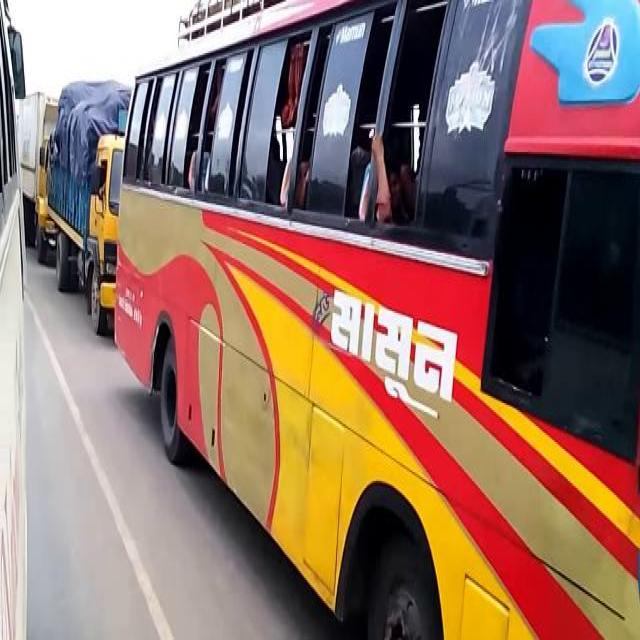18: (45, 78, 133, 345), (16, 87, 58, 261)
Truck: (112, 5, 636, 635)
